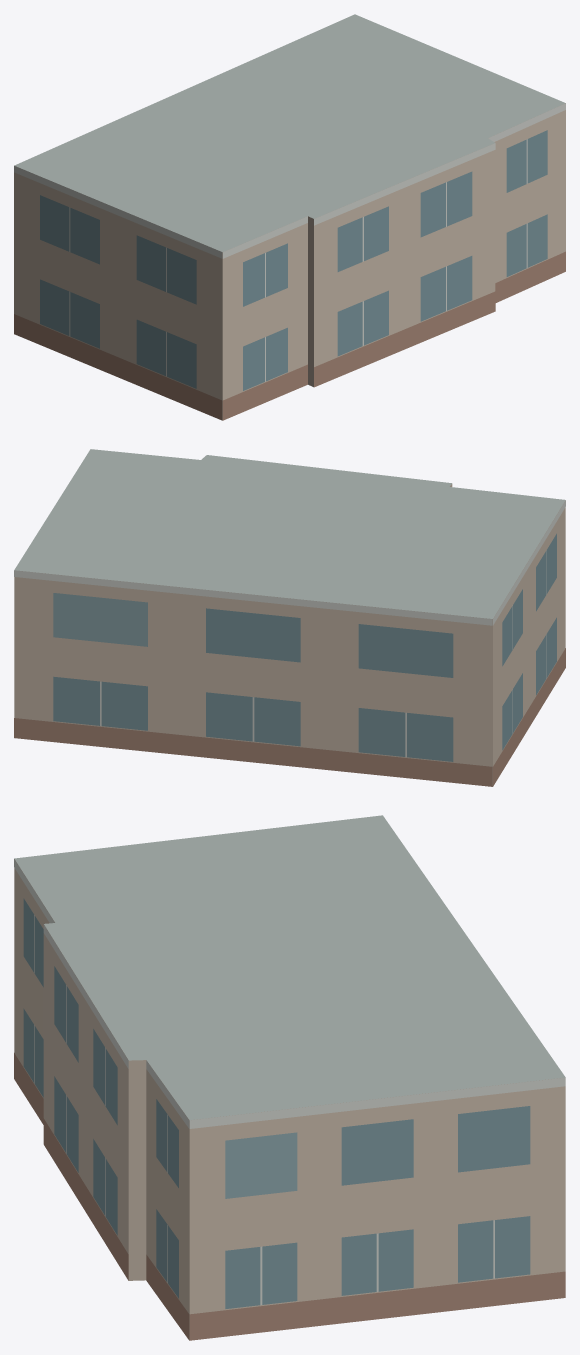
File: survey-upis-32941367.glb
3 renders of one model, top to bottom at view 1: azimuth 30°, elevation 25°; view 2: azimuth 150°, elevation 25°; view 3: azimuth 270°, elevation 25°, orthographic. The views are drawn at different scales.
Visible parts, largest first — view 1: survey-upis-32941367.tmp; view 2: survey-upis-32941367.tmp; view 3: survey-upis-32941367.tmp.
Boxes of the visible parts, x1,y1,x2,y2 form: survey-upis-32941367.tmp: (14, 14, 565, 420); survey-upis-32941367.tmp: (14, 449, 565, 786); survey-upis-32941367.tmp: (14, 815, 565, 1340).
Bounding box in the file's own units: 18.12 × 6.1 × 13.85.
